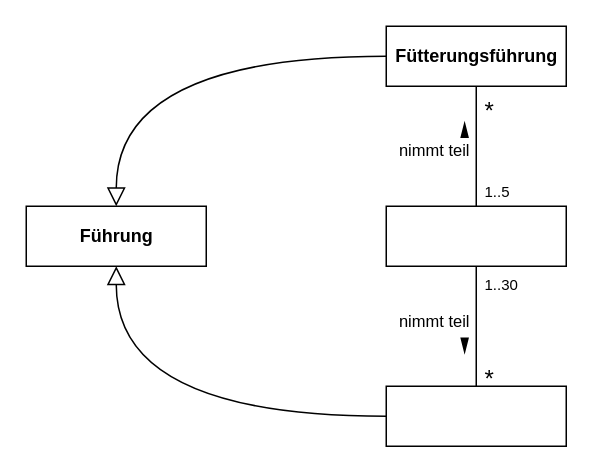
Some shapes in this 593 by 473 pixel diagram are drawn without their labels. Here are the shapes that lost their labels. From the top down, the box of each, then its label:
(385, 205, 566, 266): Zoobesucher
(385, 385, 566, 446): Zooführung
